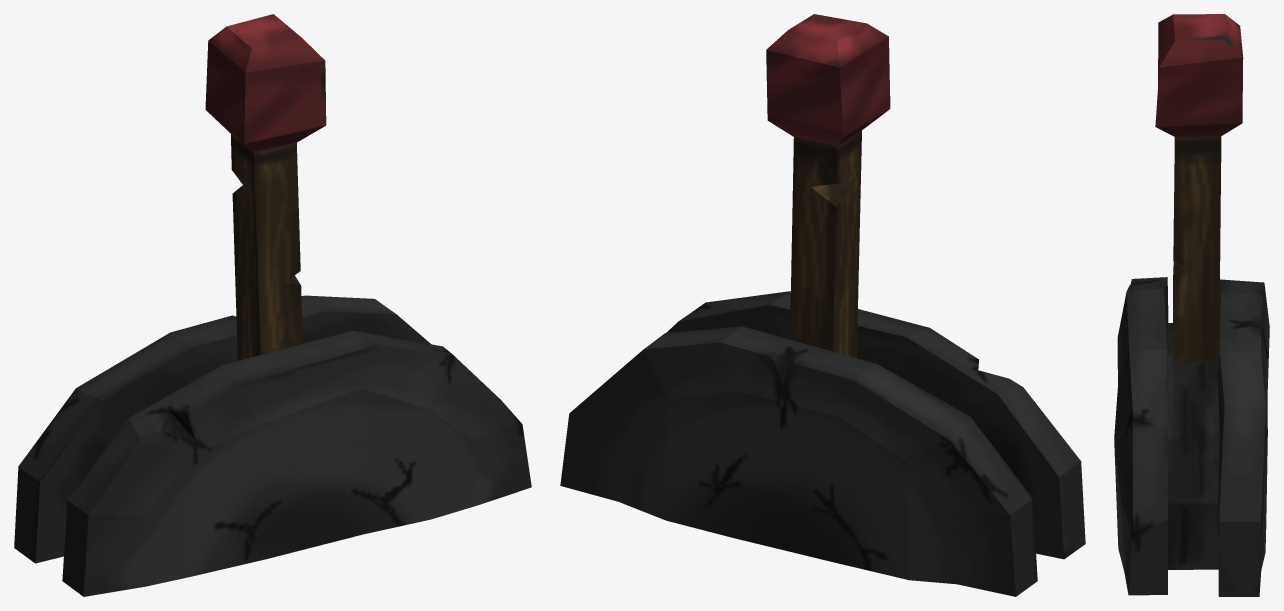
File: Lever.fbx
3 renders of one model, left to right at view 1: azimuth 30°, elevation 25°; view 2: azimuth 150°, elevation 25°; view 3: azimuth 270°, elevation 25°, orthographic. The views are drawn at different scales.
Parts seen in each view (by area): view 1: Base, Handle; view 2: Base, Handle; view 3: Base, Handle.
Part boxes in pixels (left/top/right/bottom): Base: left=14, top=295, right=531, bottom=596; Handle: left=205, top=14, right=326, bottom=360; Base: left=560, top=291, right=1085, bottom=596; Handle: left=766, top=14, right=890, bottom=357; Base: left=1114, top=277, right=1269, bottom=596; Handle: left=1155, top=14, right=1243, bottom=363.
Size of the model in its own units: 2.48 by 2.61 by 0.7815.
